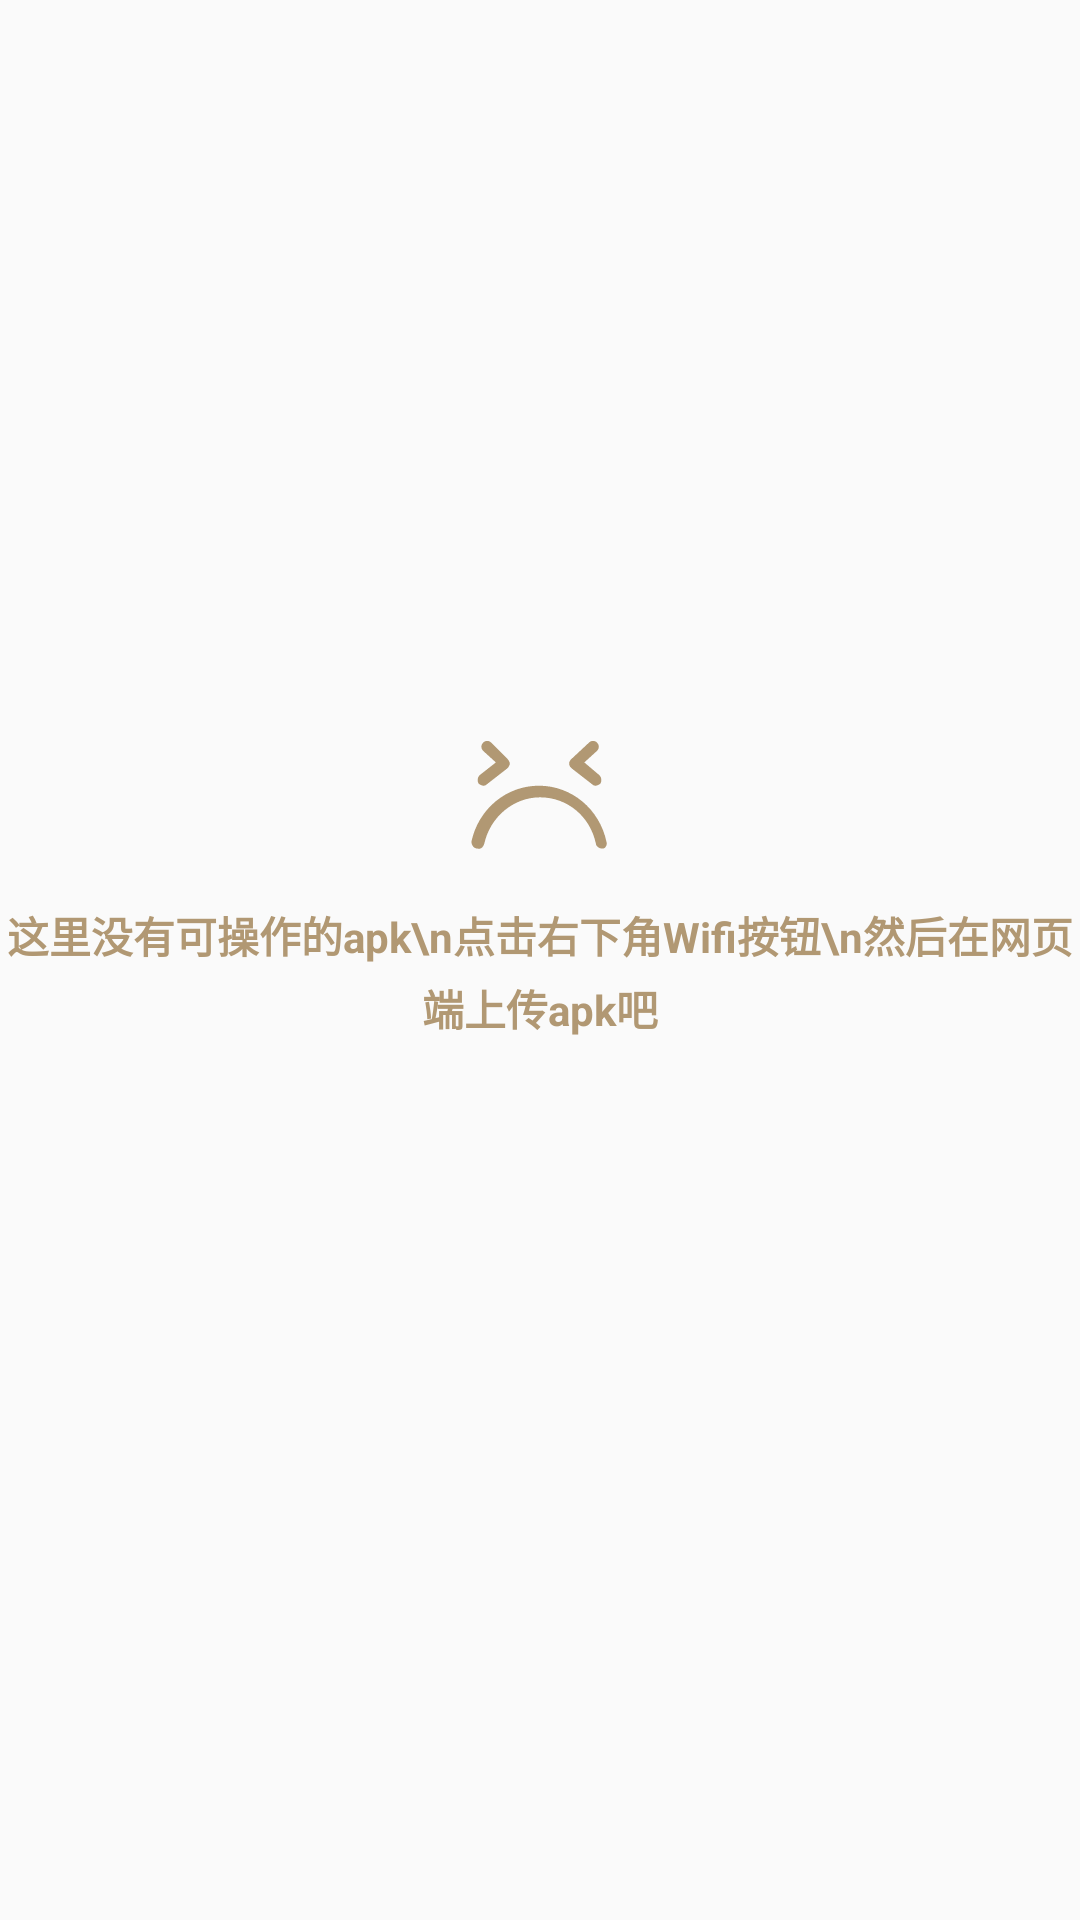

Point at icon controls on the screen. Image size 1080×1920, points as [x,y].
kulian: [539,795]
